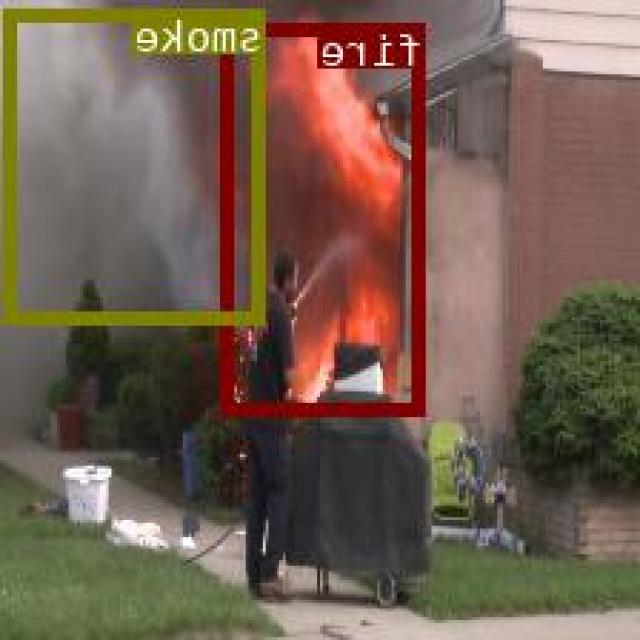fire: (225, 21, 428, 412)
smoke: (8, 9, 267, 322)
